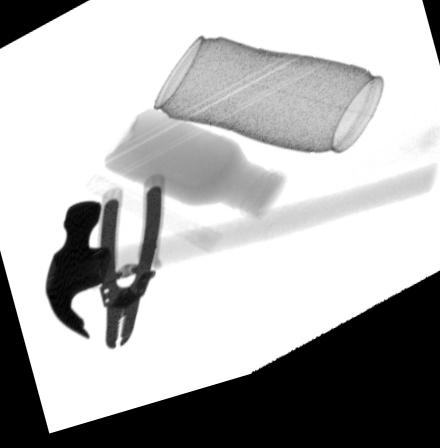Hammer: (43, 190, 438, 344)
Pliers: (89, 183, 164, 355)
